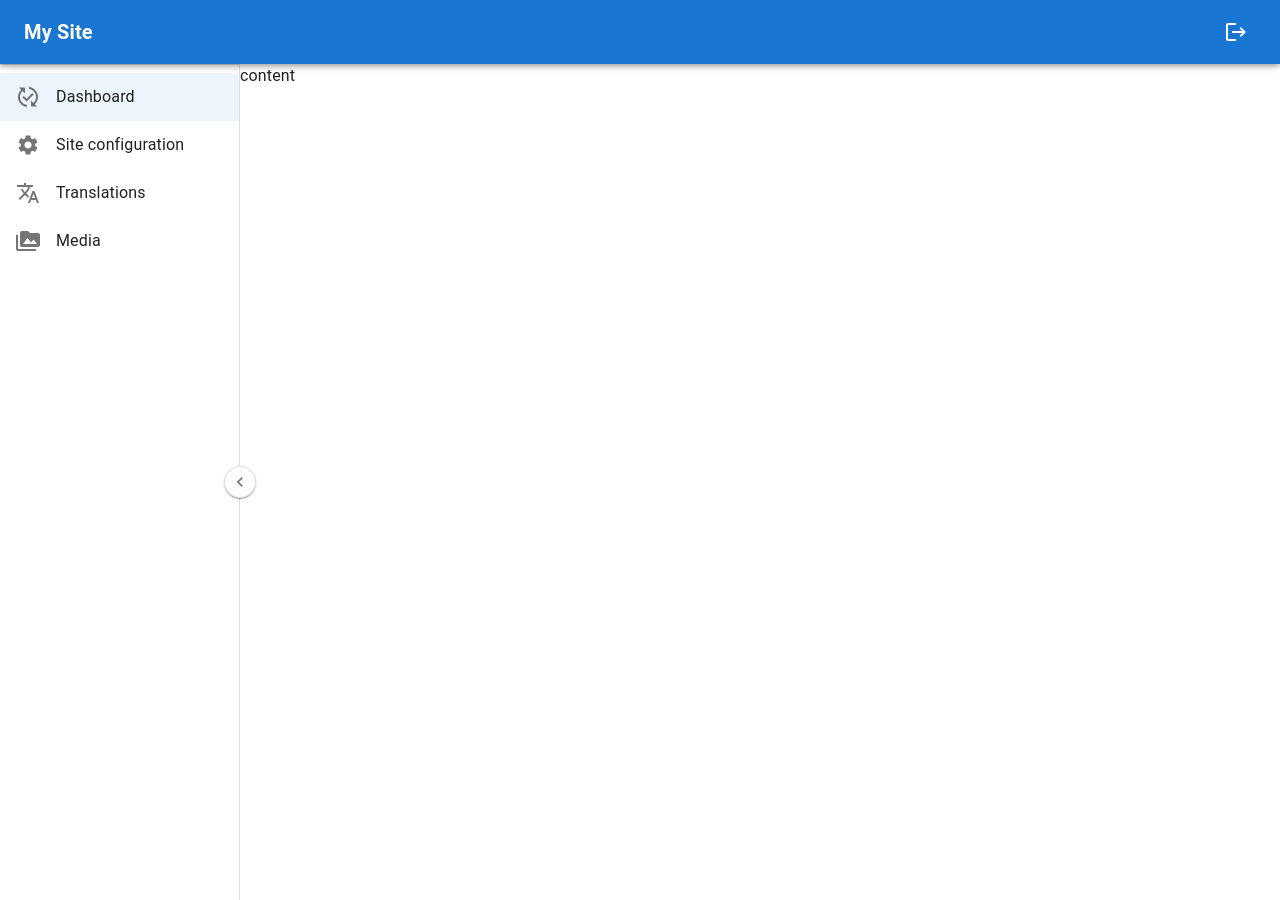
Test: ManageLayout › folds the desktop drawer to icons only and back
The image size is (1280, 900).
Click the button named "Collapse menu".
click(240, 482)  # box 224,466 -> 256,498
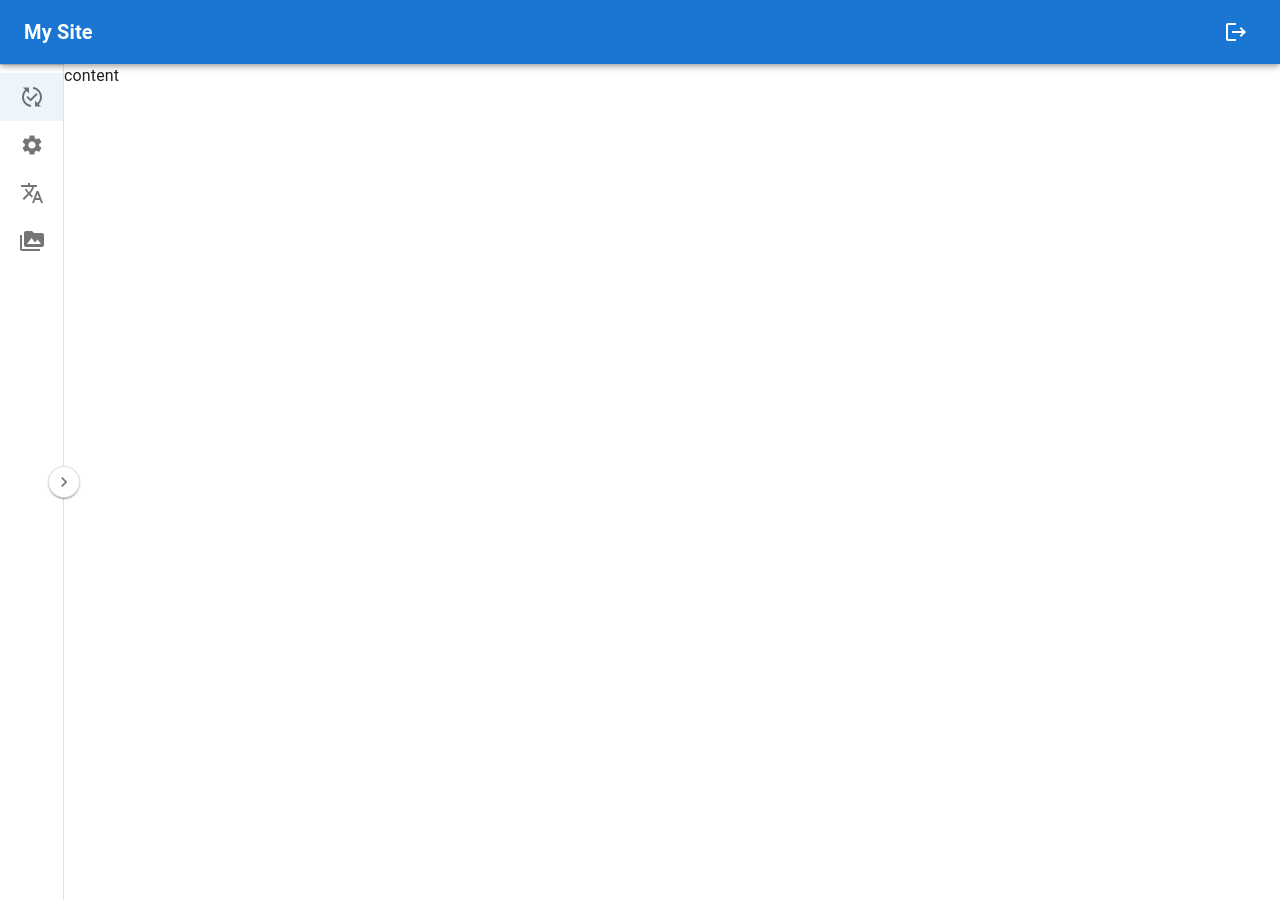
Note: Expanding reveals the labels again once the animation completes.
Click the button named "Expand menu".
click(64, 482)  # box 48,466 -> 80,498
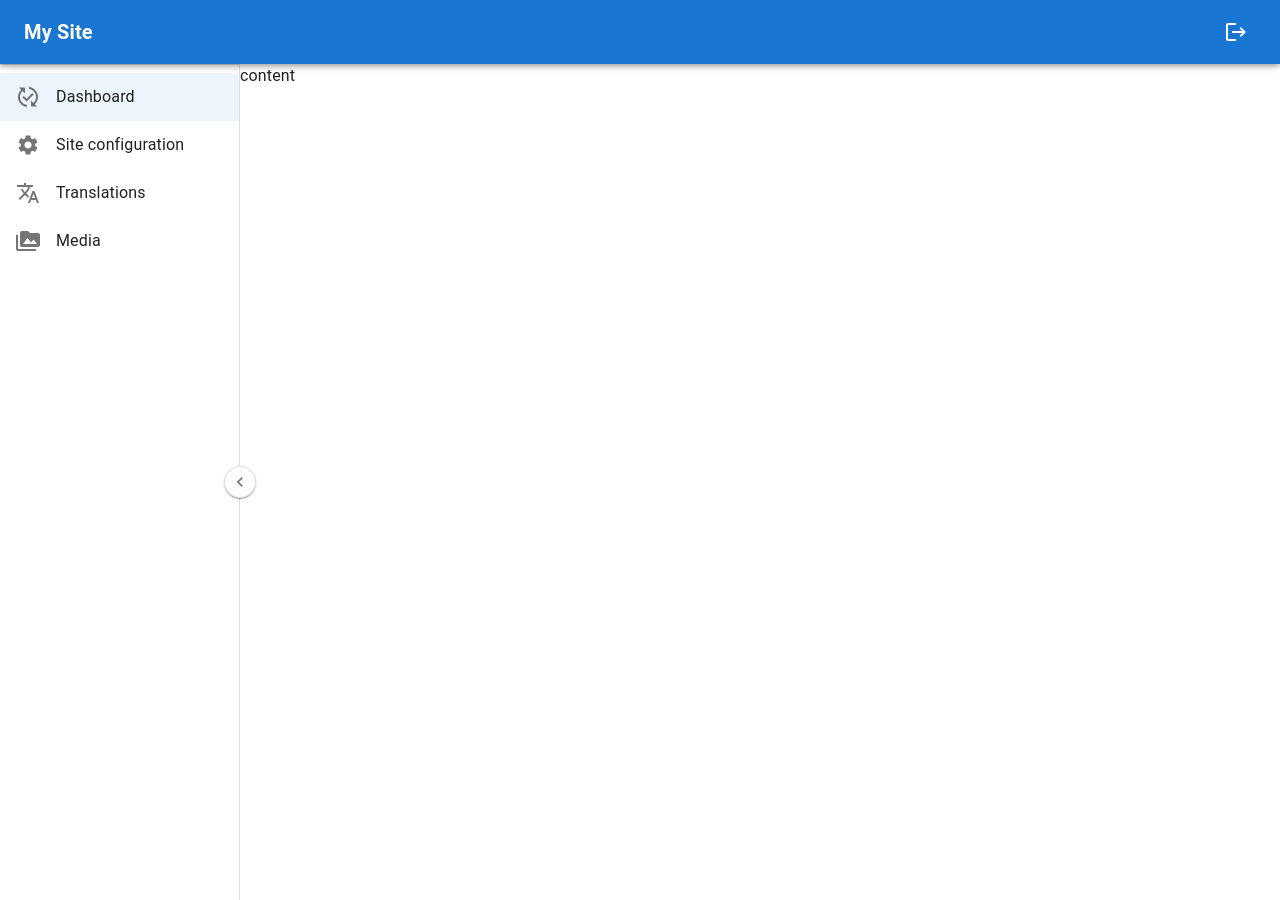
Now the text "Dashboard" is shown 2 times
